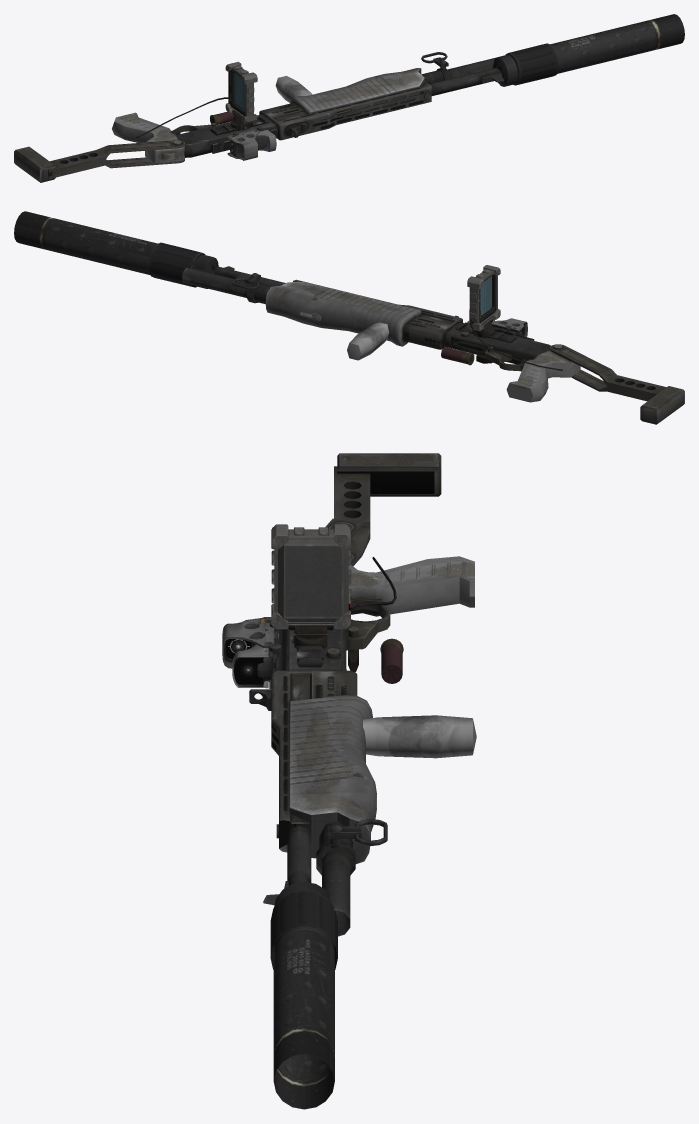
Rendered from viewmodel_spas12_woodland_LOD0.obj.
3 renders of one model, top to bottom at view 1: azimuth 30°, elevation 25°; view 2: azimuth 150°, elevation 25°; view 3: azimuth 270°, elevation 25°, orthographic. The views are drawn at different scales.
Visible parts, largest first — view 1: mtl_weapon_spas12_woodland, mtl_weapon_suppressor_b, mtl_weapon_motion_tracker_woodland, mtl_weapon_eotech_2_woodland, mtl_weapon_m14ebr_foregrip_woodland, mtl_motion_tracker_screen, mtl_weapon_red_dot_sight_woodland; view 2: mtl_weapon_spas12_woodland, mtl_weapon_suppressor_b, mtl_weapon_motion_tracker_woodland, mtl_weapon_m14ebr_foregrip_woodland, mtl_weapon_eotech_2_woodland, mtl_motion_tracker_screen; view 3: mtl_weapon_spas12_woodland, mtl_weapon_suppressor_b, mtl_weapon_motion_tracker_woodland, mtl_weapon_m14ebr_foregrip_woodland, mtl_weapon_eotech_2_woodland.
Boxes of the visible parts, x1,y1,x2,y2 form: mtl_weapon_spas12_woodland: [14, 52, 504, 182]; mtl_weapon_suppressor_b: [493, 14, 684, 86]; mtl_weapon_motion_tracker_woodland: [136, 61, 268, 138]; mtl_weapon_eotech_2_woodland: [227, 129, 267, 160]; mtl_weapon_m14ebr_foregrip_woodland: [275, 76, 312, 102]; mtl_motion_tracker_screen: [234, 73, 245, 109]; mtl_weapon_red_dot_sight_woodland: [230, 126, 276, 151]; mtl_weapon_spas12_woodland: [182, 266, 684, 424]; mtl_weapon_suppressor_b: [14, 211, 218, 288]; mtl_weapon_motion_tracker_woodland: [455, 265, 562, 370]; mtl_weapon_m14ebr_foregrip_woodland: [347, 322, 389, 360]; mtl_weapon_eotech_2_woodland: [491, 318, 527, 337]; mtl_motion_tracker_screen: [480, 276, 491, 315]; mtl_weapon_spas12_woodland: [249, 453, 474, 936]; mtl_weapon_suppressor_b: [270, 881, 337, 1109]; mtl_weapon_motion_tracker_woodland: [271, 524, 396, 667]; mtl_weapon_m14ebr_foregrip_woodland: [363, 715, 476, 758]; mtl_weapon_eotech_2_woodland: [222, 617, 278, 681].
Size of the model in its own units: 147 by 18.25 by 25.81.
